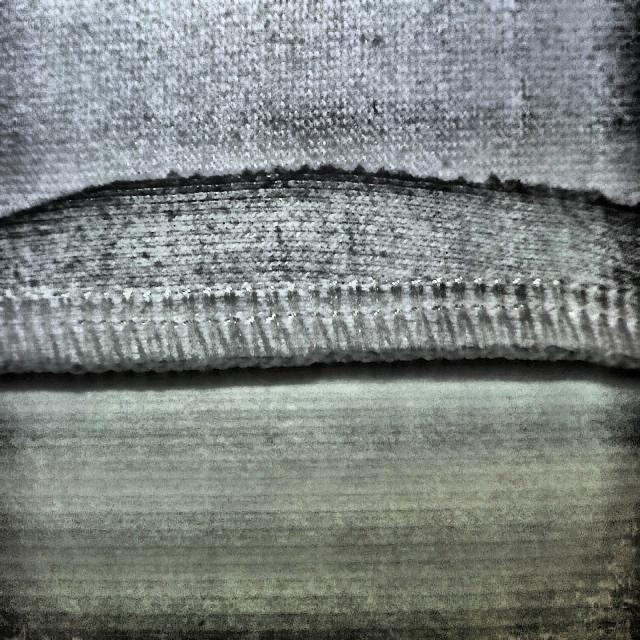seam: (0, 38, 633, 429)
